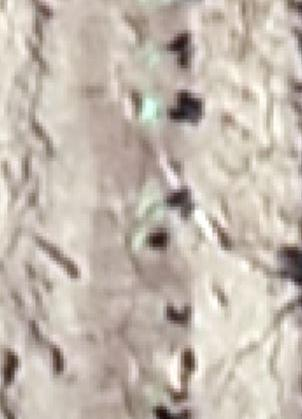cotton: (138, 192, 163, 215), (142, 98, 163, 116), (132, 231, 146, 250)
